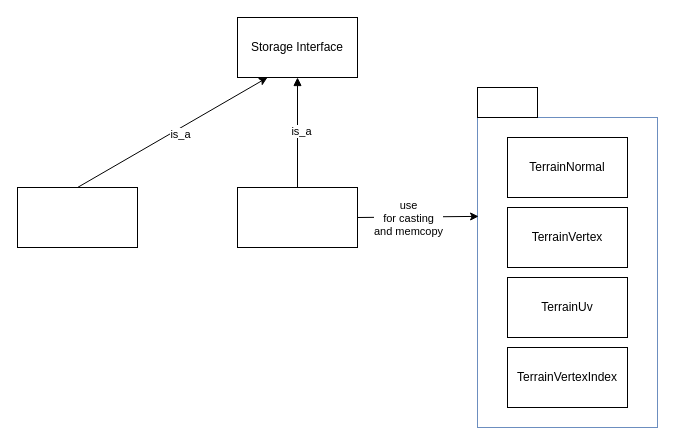
The diagram is 675 pixels wide and 445 high, and some of its shapes have lost their labels. The centre of each missing label's shape, as x and y in pixels:
"Storage Interface MeshData" goes at point (297, 217).
"StorageInterface String Array" goes at point (77, 217).
"Structs for MeshData" goes at point (507, 102).
